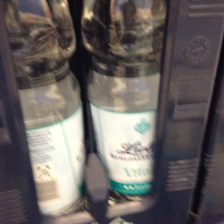water: (4, 1, 85, 216), (81, 1, 165, 203)
